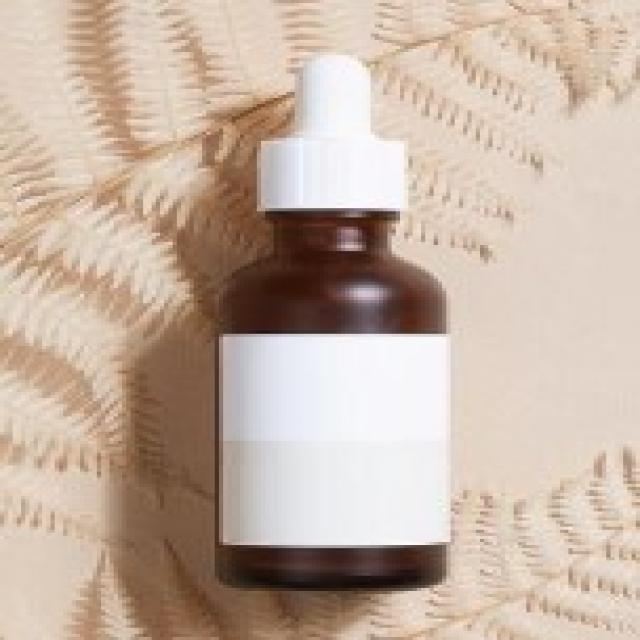electronic: (218, 60, 452, 598)
